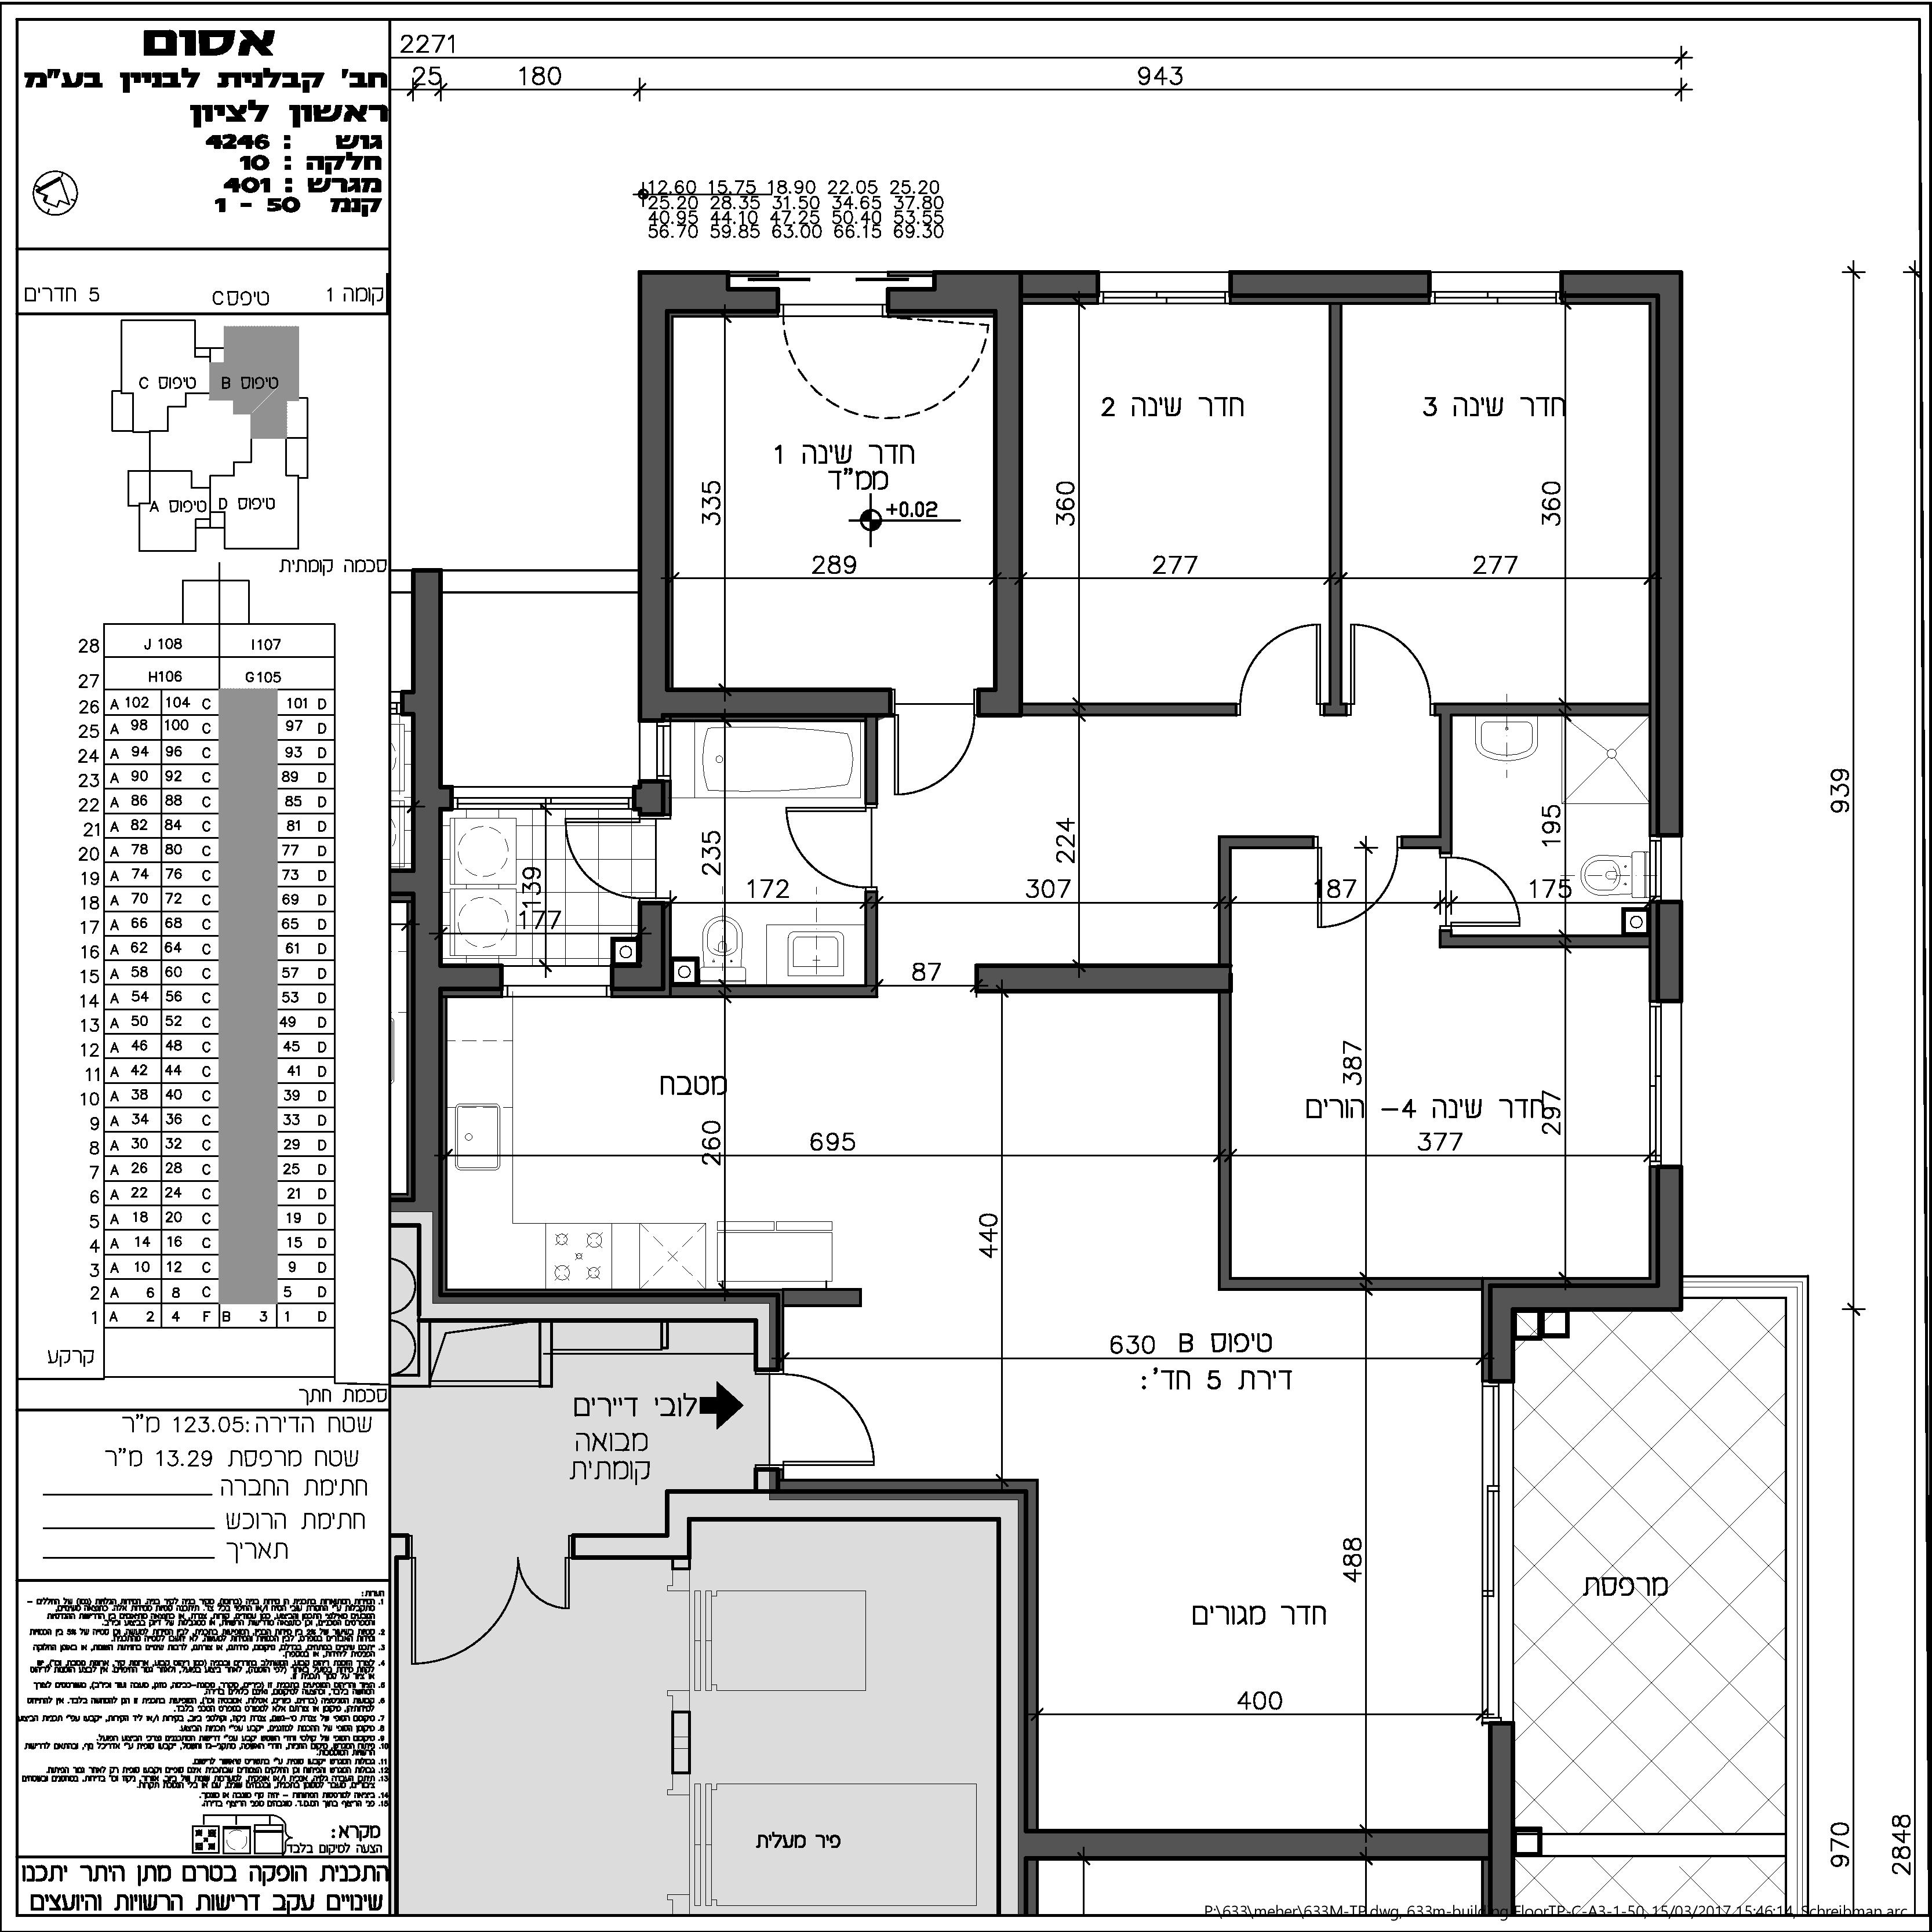door: (794, 1375, 881, 1465), (886, 720, 980, 803), (1233, 610, 1327, 694), (1352, 605, 1445, 688)
wall: (1645, 272, 1681, 835), (416, 573, 439, 1203), (639, 267, 665, 718), (1014, 1835, 1486, 1858), (1000, 276, 1024, 681)
